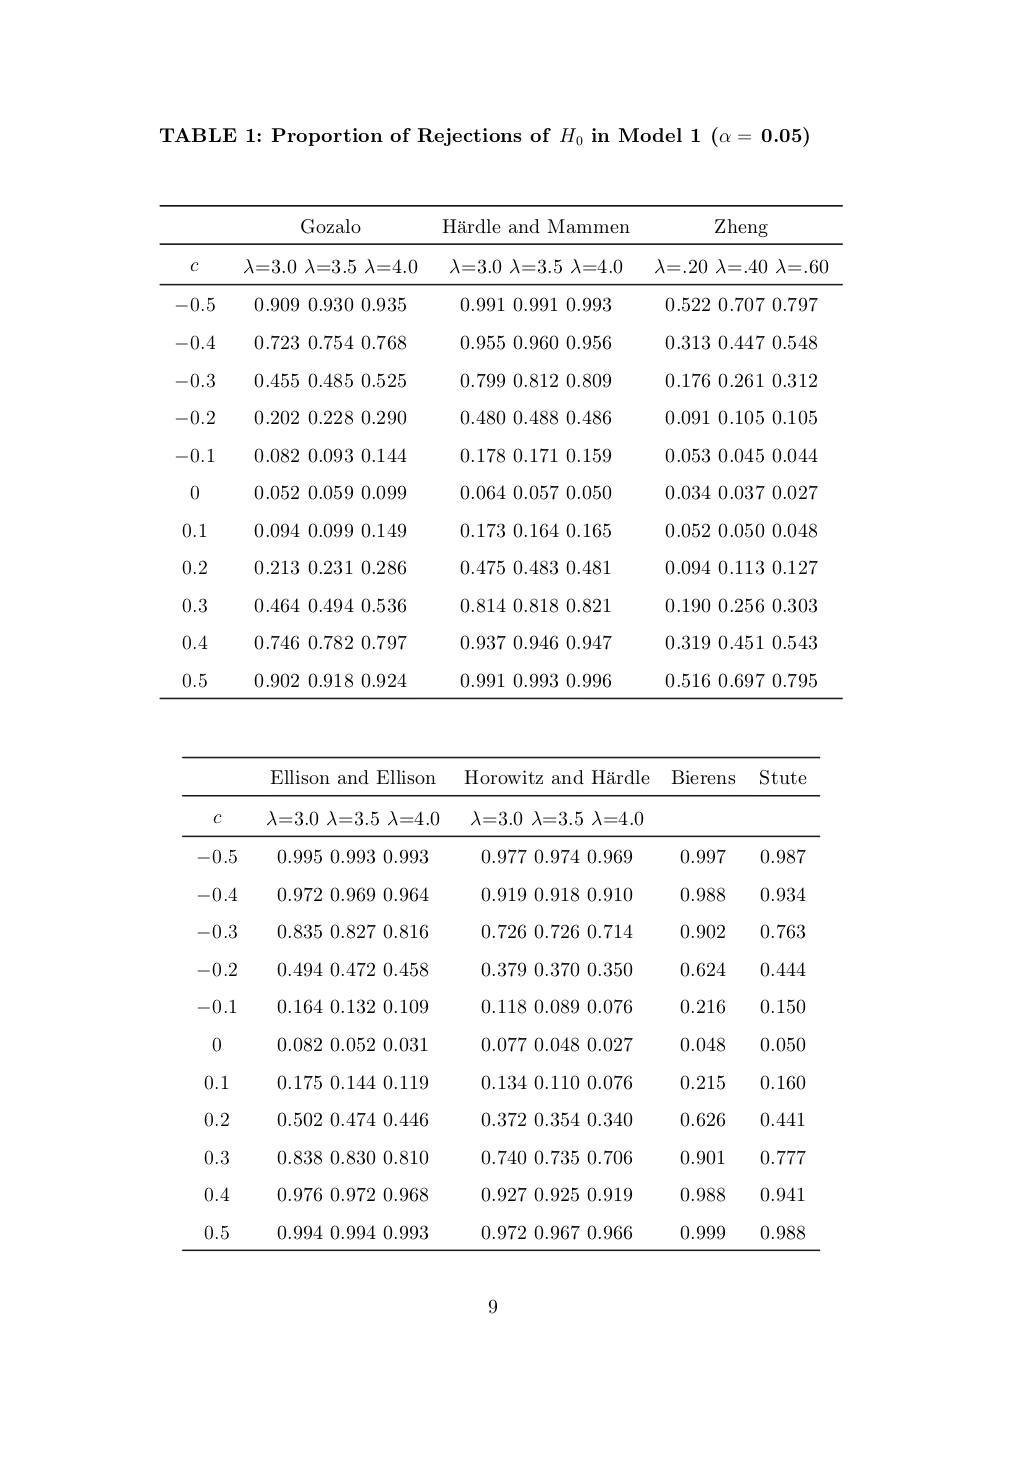Table: (158, 205, 842, 699), (182, 756, 820, 1252)
